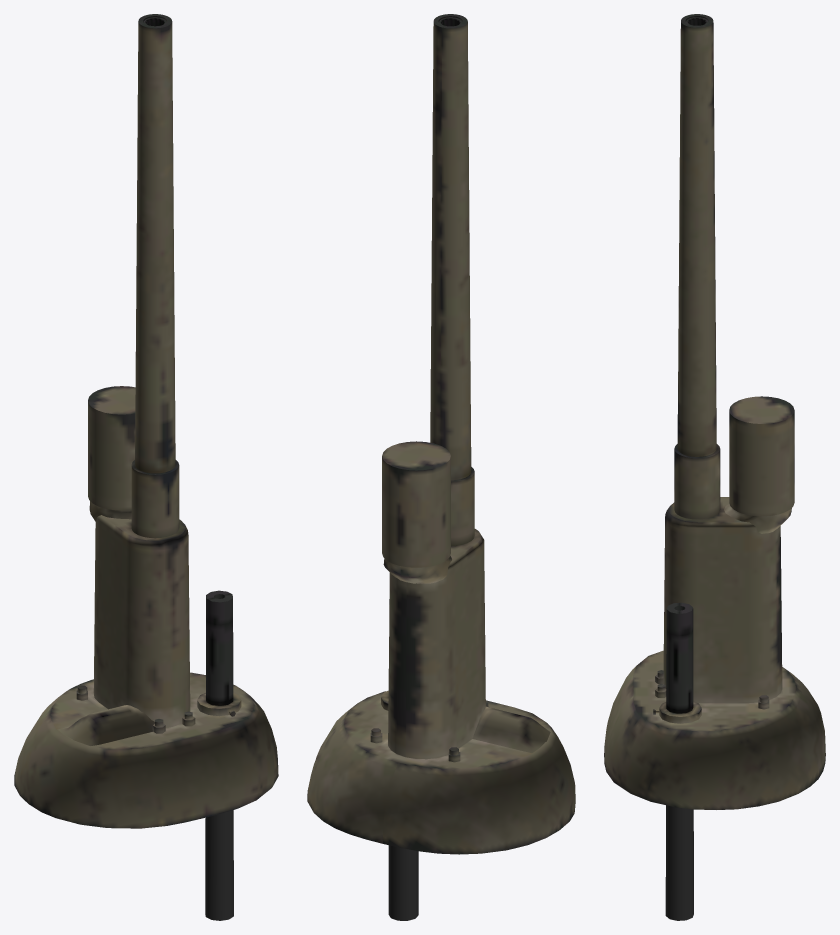
File: Gun_01.glb
3 views of the same model, side by side, from view 1: azimuth 30°, elevation 25°; view 2: azimuth 150°, elevation 25°; view 3: azimuth 270°, elevation 25° (orthographic). The views are drawn at different scales.
Parts seen in each view (by area): view 1: set_0_group_0; view 2: set_0_group_0; view 3: set_0_group_0.
Part boxes in pixels (x1,y1,x2,y2): set_0_group_0: (14,14,278,920); set_0_group_0: (307,14,575,920); set_0_group_0: (604,14,825,920).
Size of the model in its own units: 0.4248 by 1.56 by 0.362.
1 material, 1 textured.
